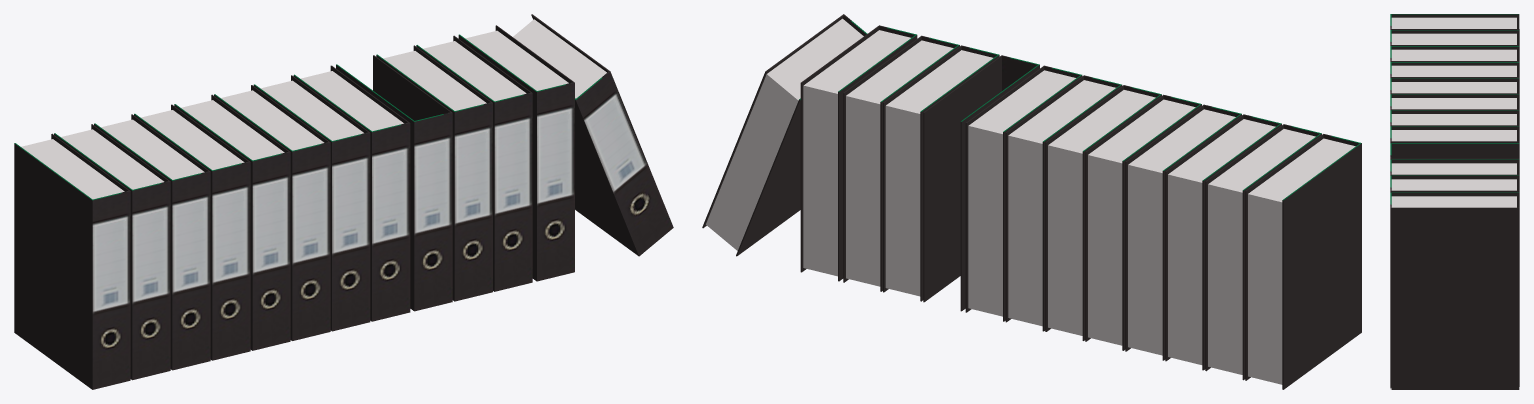
File: Files 2.FBX
3 renders of one model, left to right at view 1: azimuth 30°, elevation 25°; view 2: azimuth 150°, elevation 25°; view 3: azimuth 270°, elevation 25°, orthographic. The views are drawn at different scales.
Visible parts, largest first — view 1: Files 2; view 2: Files 2; view 3: Files 2.
Boxes of the visible parts, x1,y1,x2,y2 form: Files 2: (14, 14, 673, 389); Files 2: (702, 14, 1361, 389); Files 2: (1390, 14, 1519, 389).
Bounding box in the file's own units: 77.5 × 24.49 × 18.11.
Materials: 1 (1 with a texture image).
